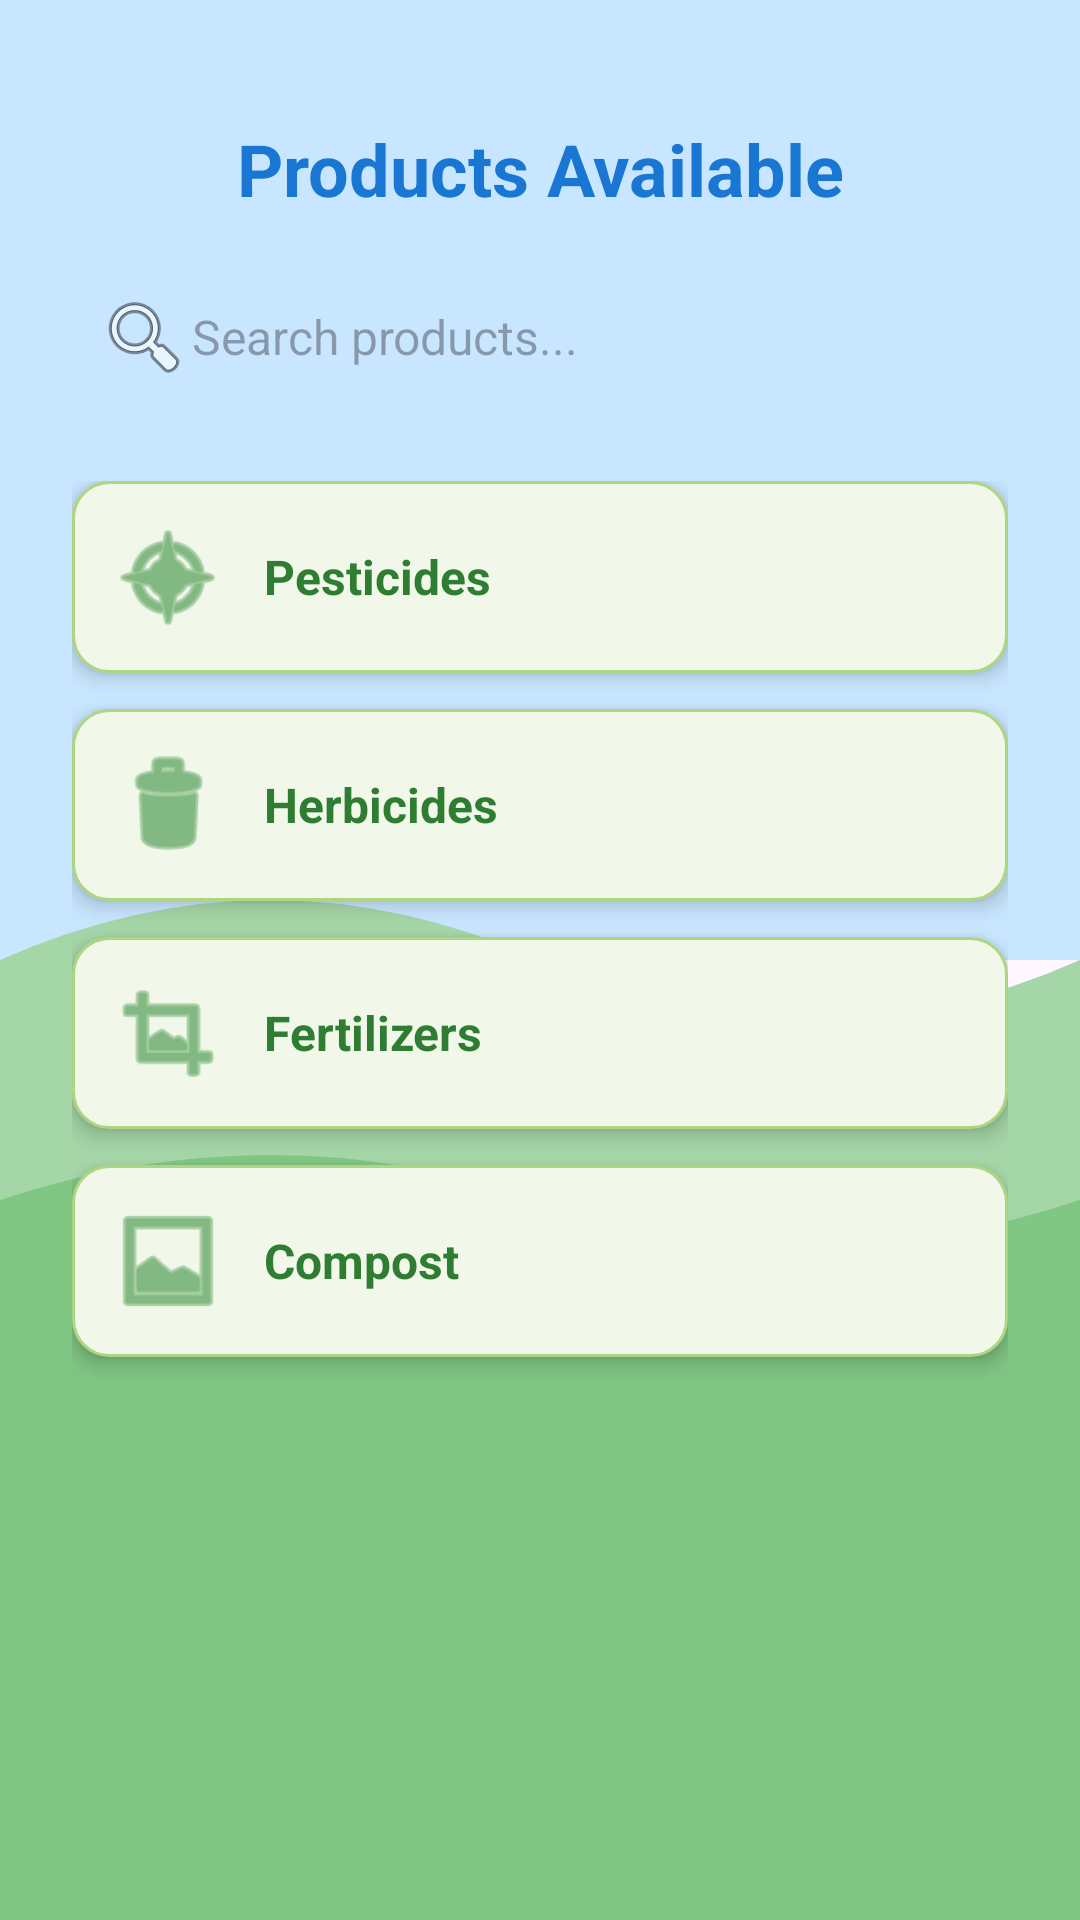

Screen size 1080x1920. Icon name, then its center in pixels as (x=x, y=y):
compass: (x=167, y=577)
crop: (x=168, y=1033)
delete: (x=168, y=803)
gallery: (x=168, y=1261)
